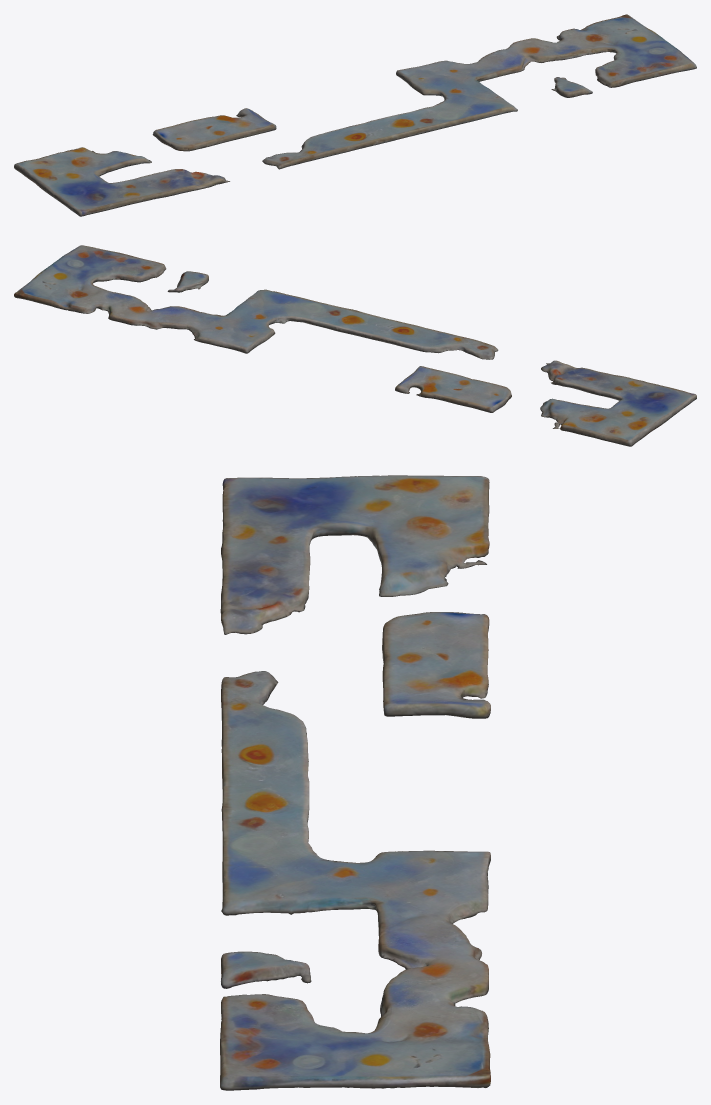
3 renders of one model, top to bottom at view 1: azimuth 30°, elevation 25°; view 2: azimuth 150°, elevation 25°; view 3: azimuth 270°, elevation 25°, orthographic. The views are drawn at different scales.
Parts seen in each view (by area): view 1: file1; view 2: file1; view 3: file1.
Boxes of the visible parts, x1=… form: file1: x1=14, y1=14, x2=696, y2=216; file1: x1=14, y1=245, x2=696, y2=446; file1: x1=220, y1=475, x2=490, y2=1090.
Bounding box in the file's own units: 2 × 0.0242 × 0.3794.
1 material, 1 textured.
